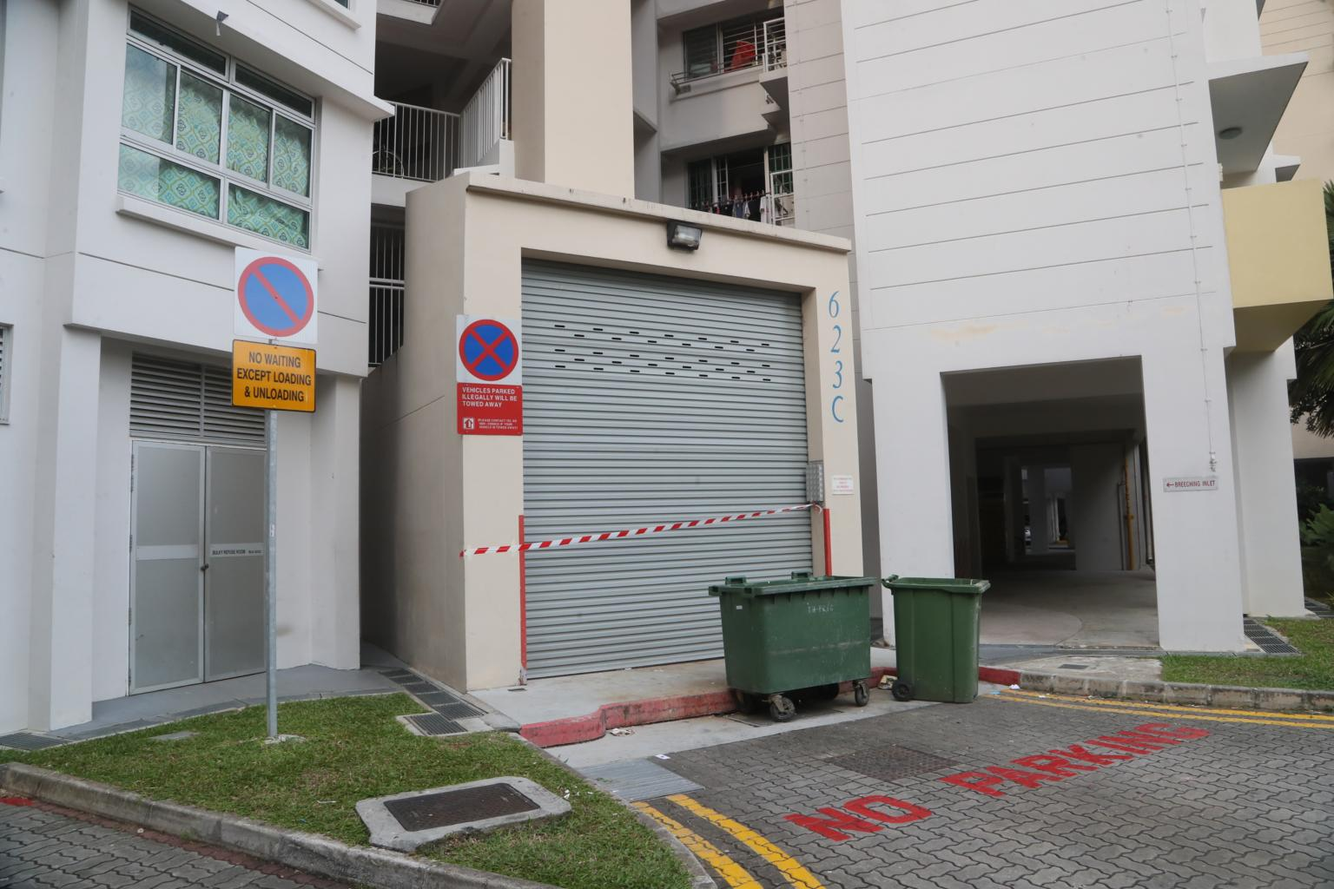bin_empty: (710, 571, 878, 720), (882, 576, 989, 701)
